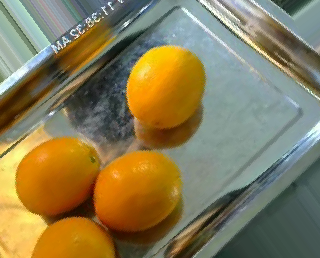Orange: (94, 149, 181, 231), (126, 43, 206, 128), (15, 136, 100, 216)
